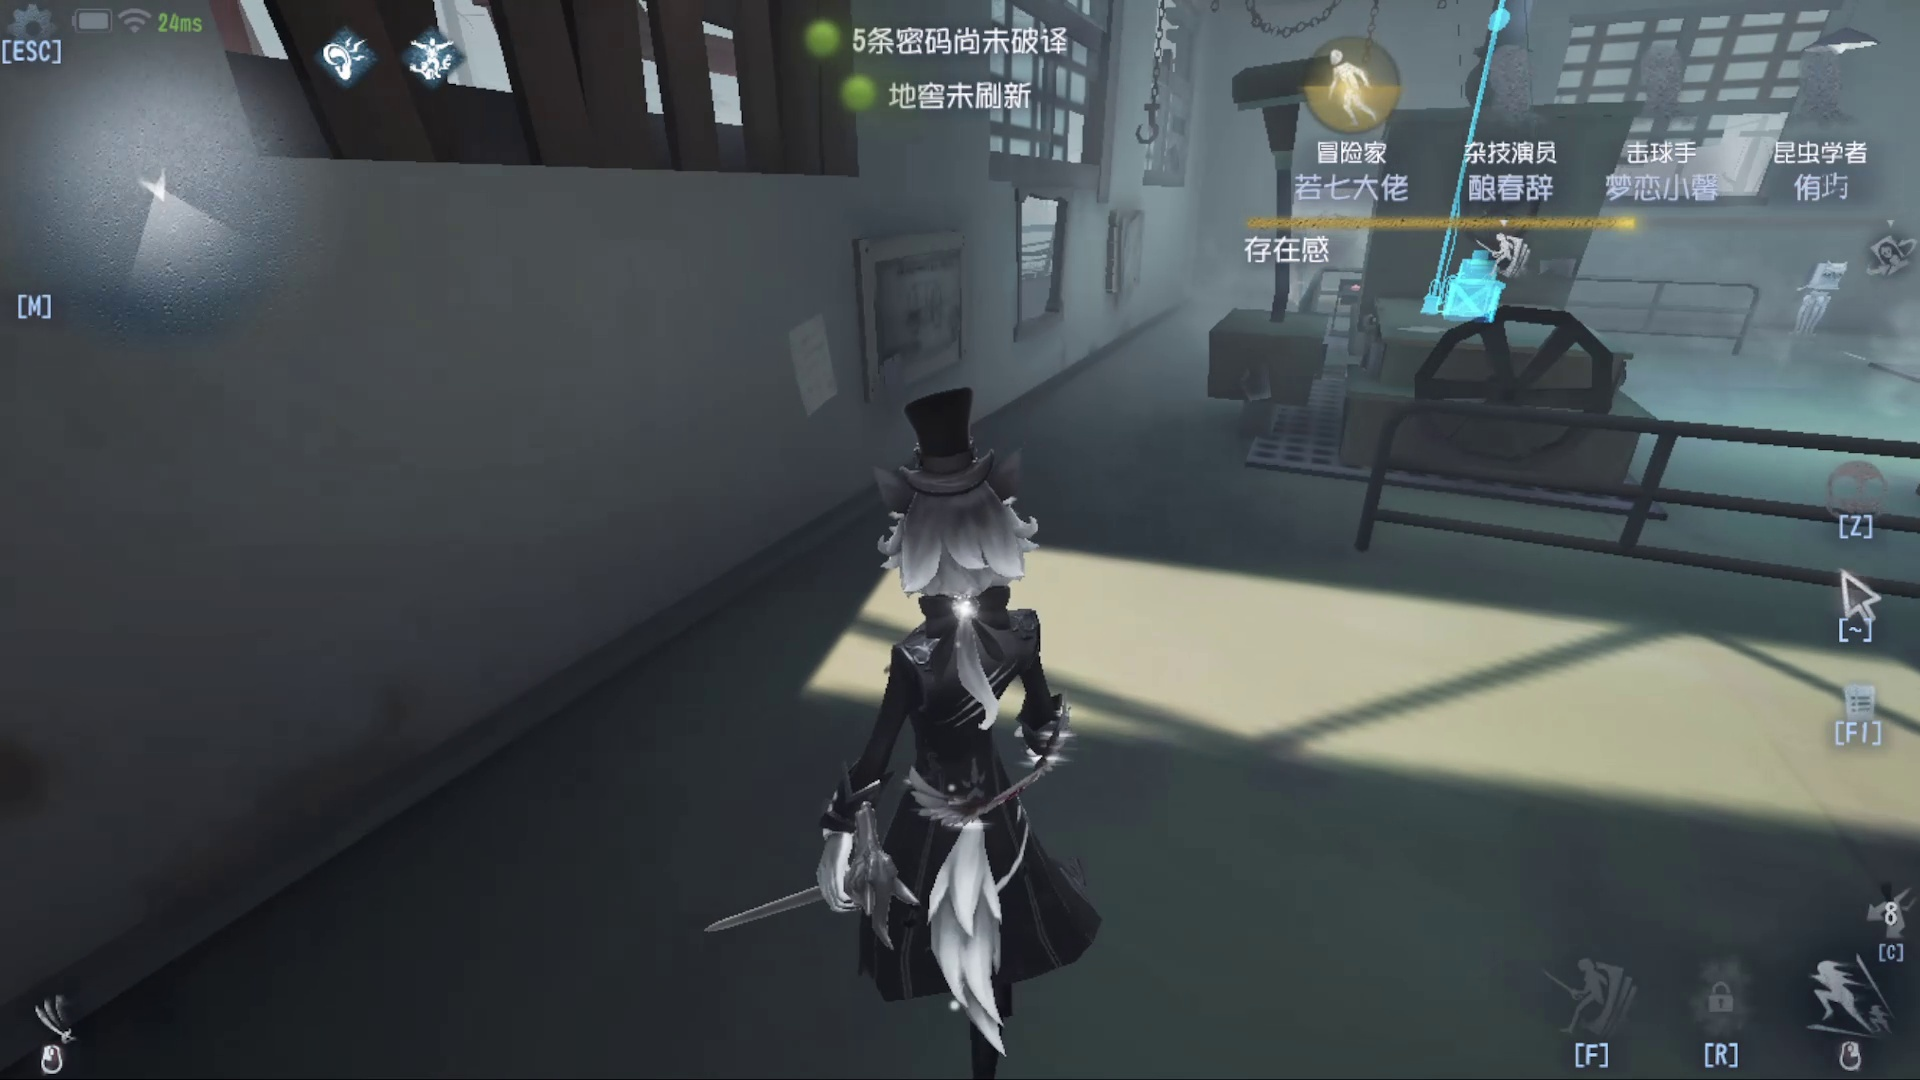密码机: (1379, 15, 1553, 351)
